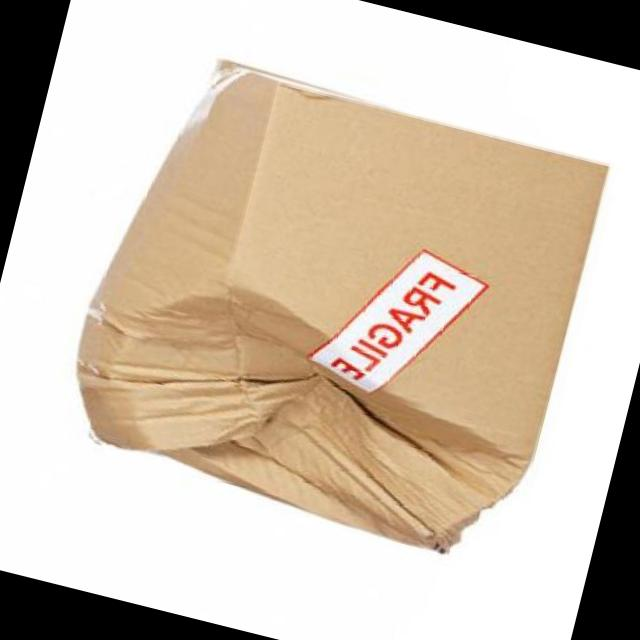box: (76, 56, 611, 558)
crushed: (78, 55, 532, 558)
